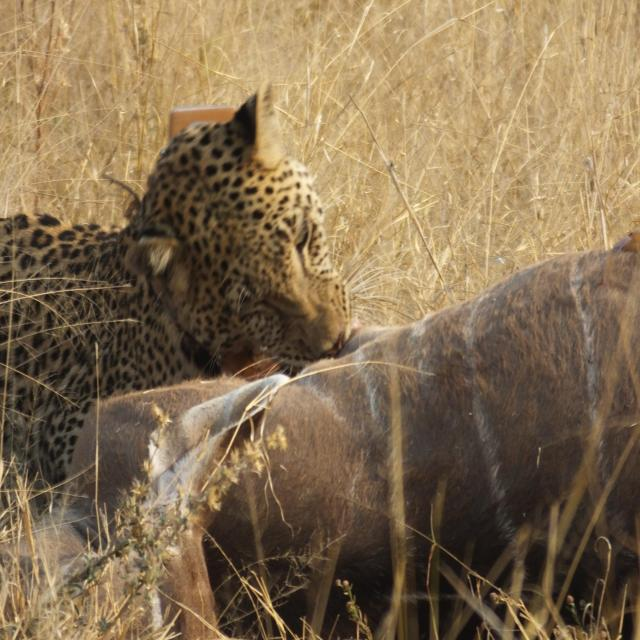Leopard: (0, 79, 377, 482)
